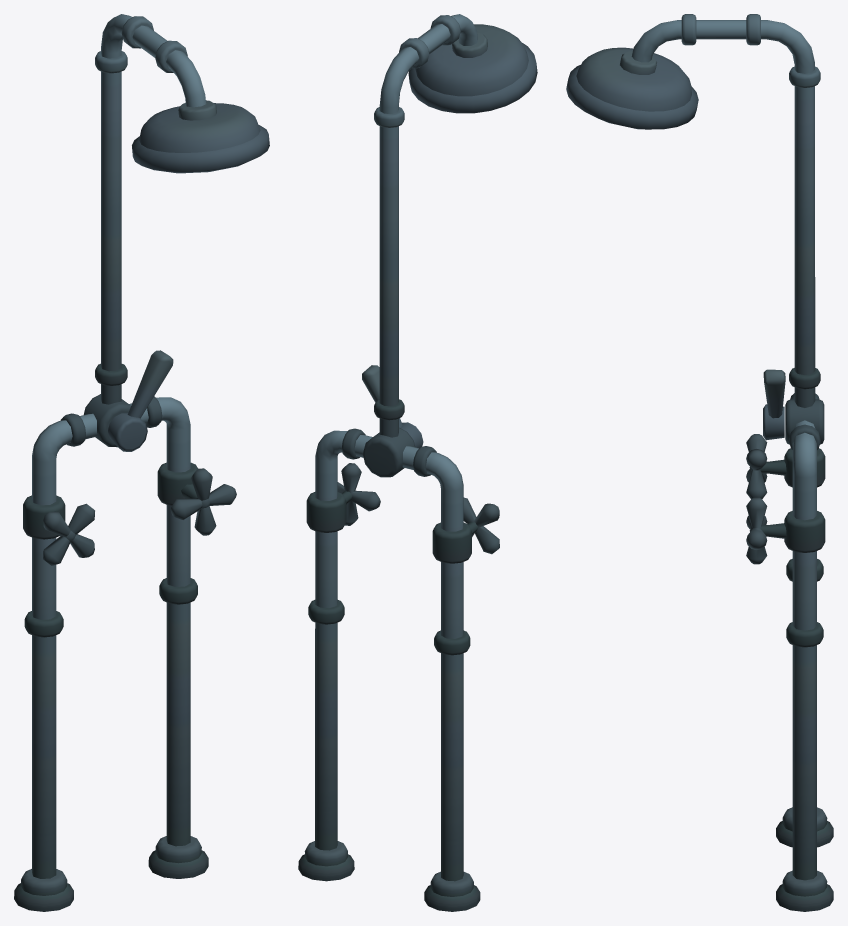
The model's file is Mixer_03.glb.
3 renders of one model, left to right at view 1: azimuth 30°, elevation 25°; view 2: azimuth 150°, elevation 25°; view 3: azimuth 270°, elevation 25°, orthographic. The views are drawn at different scales.
Parts seen in each view (by area): view 1: Mixer_03; view 2: Mixer_03; view 3: Mixer_03.
Part boxes in pixels (x1,y1,x2,y2): Mixer_03: (14,14,269,911); Mixer_03: (298,14,537,911); Mixer_03: (566,14,833,911).
Size of the model in its own units: 0.4423 by 1.95 by 0.556.
Materials: 1 (1 with a texture image).
